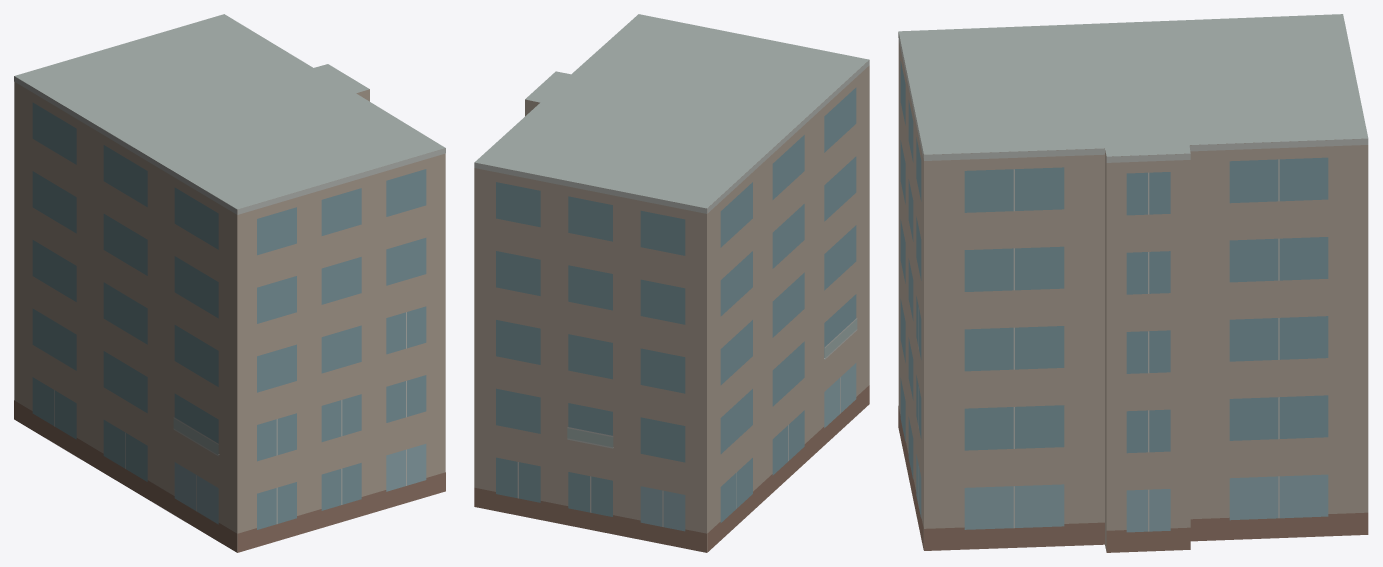
File: survey-upis-33004295.glb
The picture shows the model from 3 angles, left to right: view 1: azimuth 30°, elevation 25°; view 2: azimuth 150°, elevation 25°; view 3: azimuth 270°, elevation 25°; orthographic projection. The views are drawn at different scales.
Visible parts, largest first — view 1: survey-upis-33004295.tmp; view 2: survey-upis-33004295.tmp; view 3: survey-upis-33004295.tmp.
Part boxes in pixels (x1=…): survey-upis-33004295.tmp: x1=14, y1=14, x2=445, y2=552; survey-upis-33004295.tmp: x1=474, y1=14, x2=869, y2=552; survey-upis-33004295.tmp: x1=898, y1=14, x2=1368, y2=552.
Bounding box in the file's own units: 11.78 × 15.25 × 16.4.
